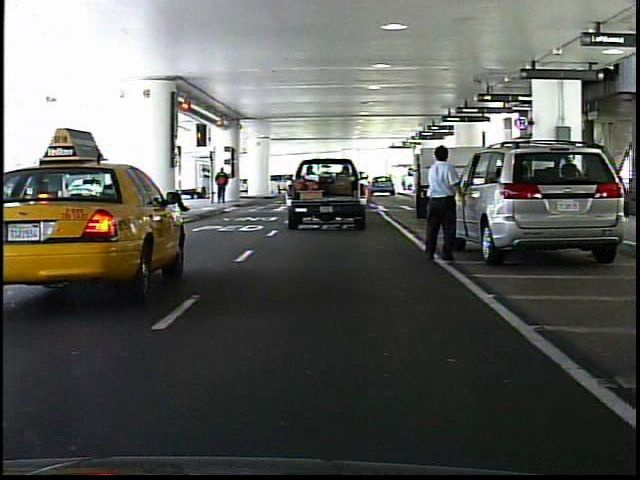person: (415, 141, 469, 270), (212, 164, 231, 206)
